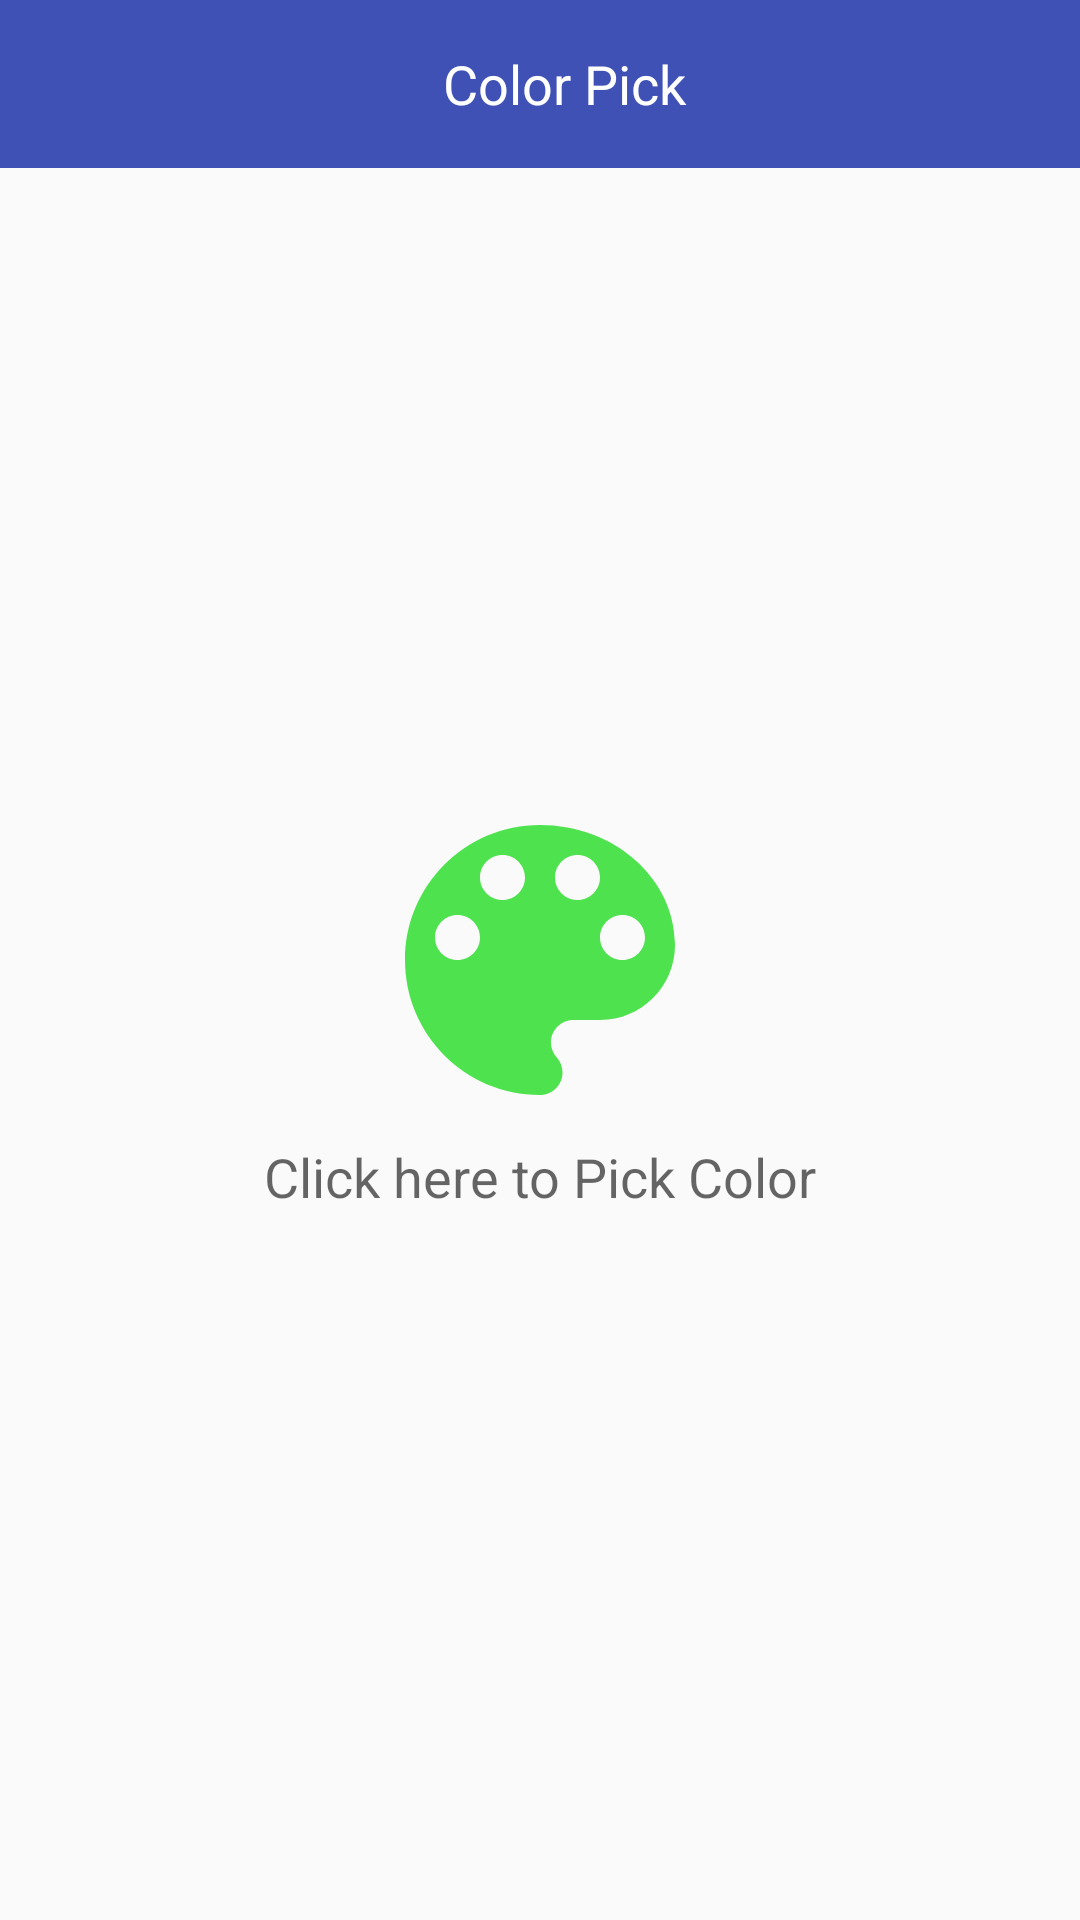

Named icons in this screenshot (1080px x 1920px) and their bounding boxes, rect(x1, y1, x2, y2):
palette: rect(405, 825, 675, 1095)
